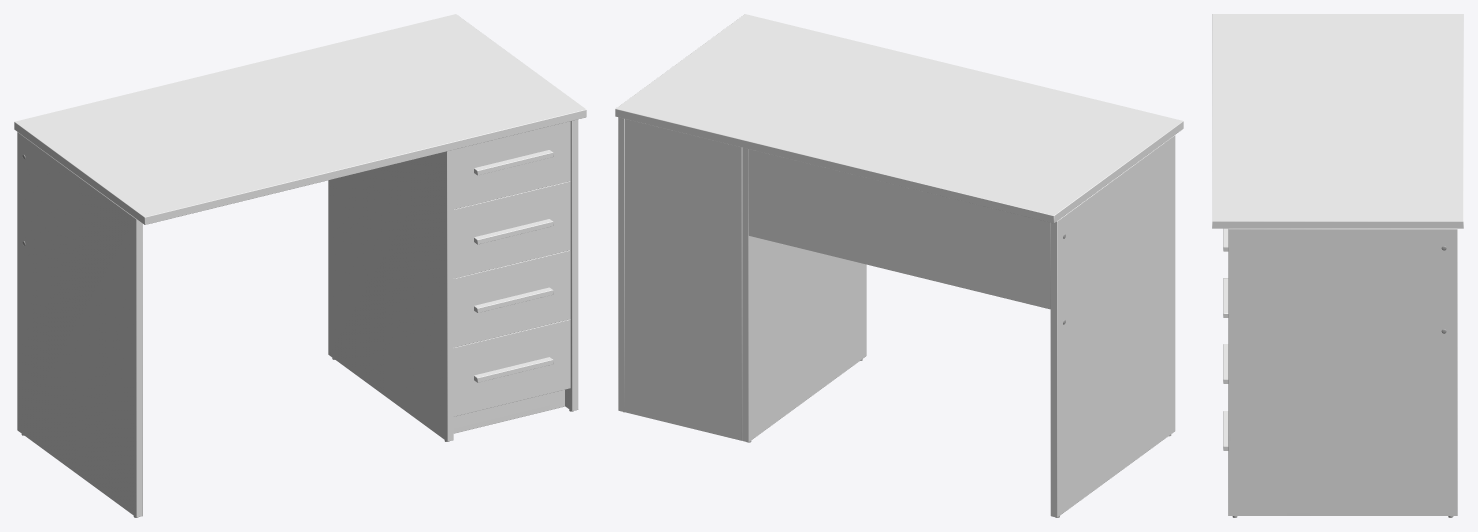
Rendered from B07GFT7H76.glb.
3 renders of one model, left to right at view 1: azimuth 30°, elevation 25°; view 2: azimuth 150°, elevation 25°; view 3: azimuth 270°, elevation 25°, orthographic. The views are drawn at different scales.
Visible parts, largest first — view 1: B07GFT7H76; view 2: B07GFT7H76; view 3: B07GFT7H76.
Boxes of the visible parts, x1,y1,x2,y2 form: B07GFT7H76: (14, 14, 586, 517); B07GFT7H76: (615, 14, 1183, 517); B07GFT7H76: (1212, 14, 1463, 517).
Bounding box in the file's own units: 1.1 × 0.73 × 0.5601.
1 material, 1 textured.
